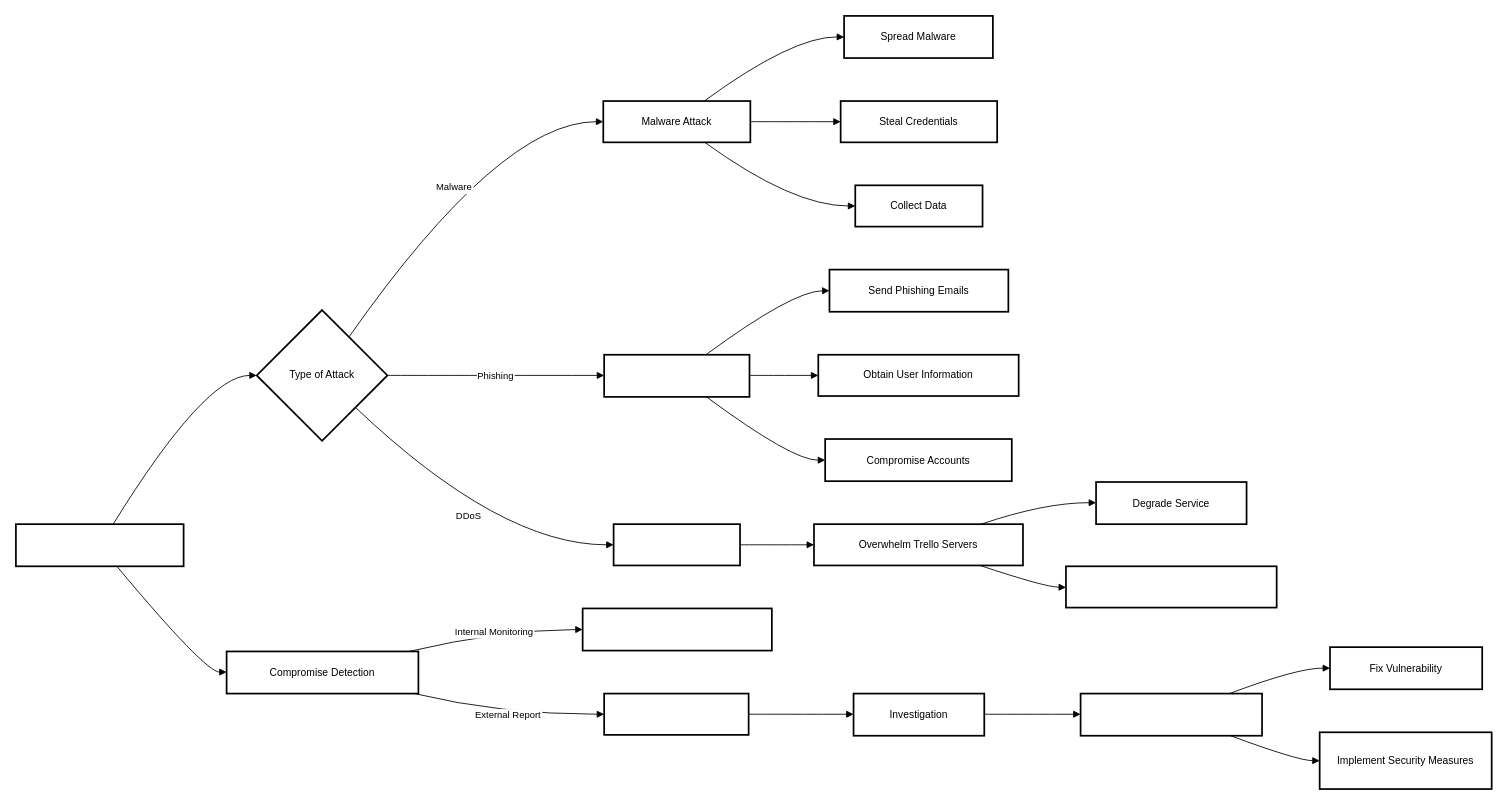
Image size: 1507x804. Some labels were removed from this diagram. Each missing label, with the box of its shape:
DDoS Attack: (612, 523, 740, 566)
Detected Later: (603, 692, 749, 735)
Gain Unauthorized Access: (1065, 565, 1277, 608)
Identify Vulnerability: (1079, 692, 1262, 736)
Immediately Detected: (581, 607, 772, 651)
Initial Compromise: (15, 523, 184, 567)
Phishing Attack: (603, 353, 750, 397)
